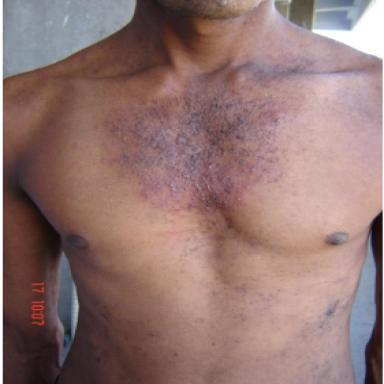Darier_s-Disease: (101, 84, 303, 214)
